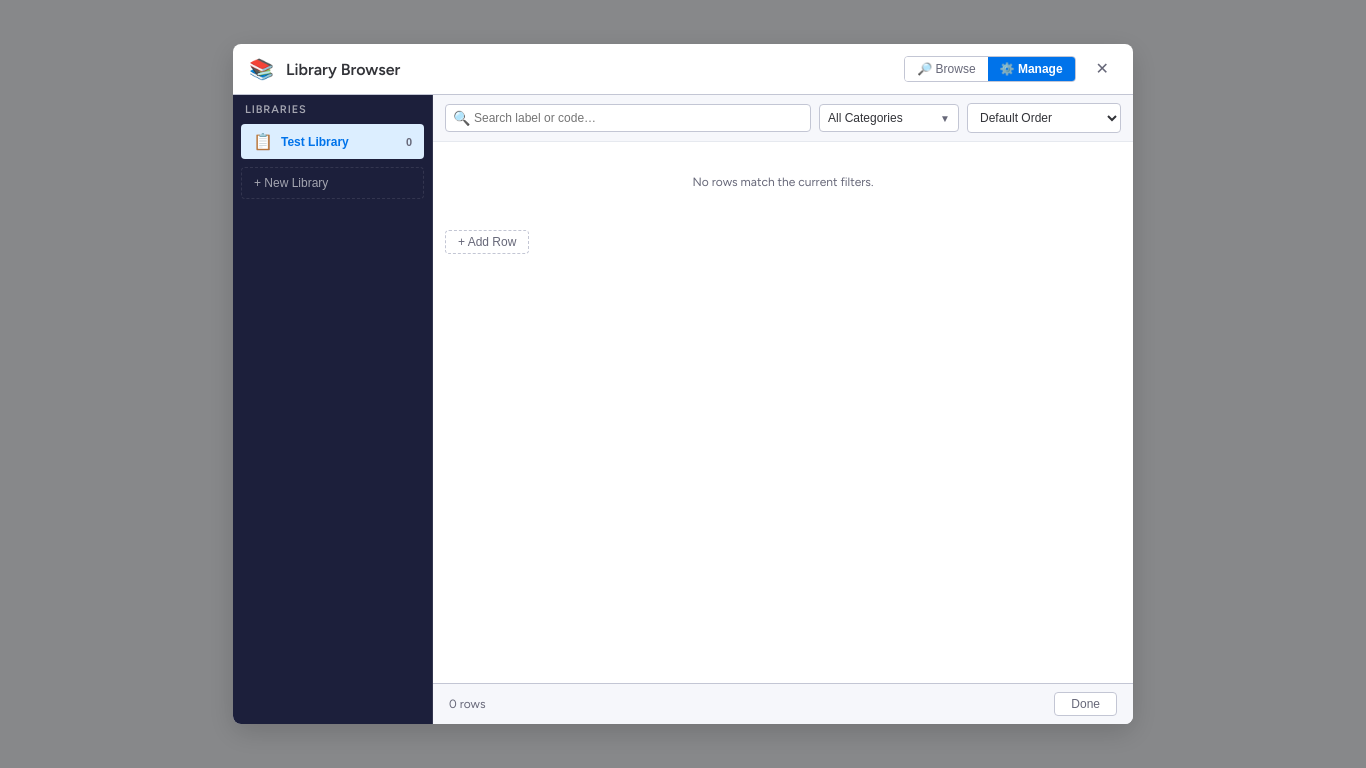
Test: LibraryBrowser — manage mode › should show the new-row form with label and export key inputs when Add Row is clicked
The width and height of the screenshot is (1366, 768).
Click the button "+ Add Row": (487,242) [445,230,529,254]
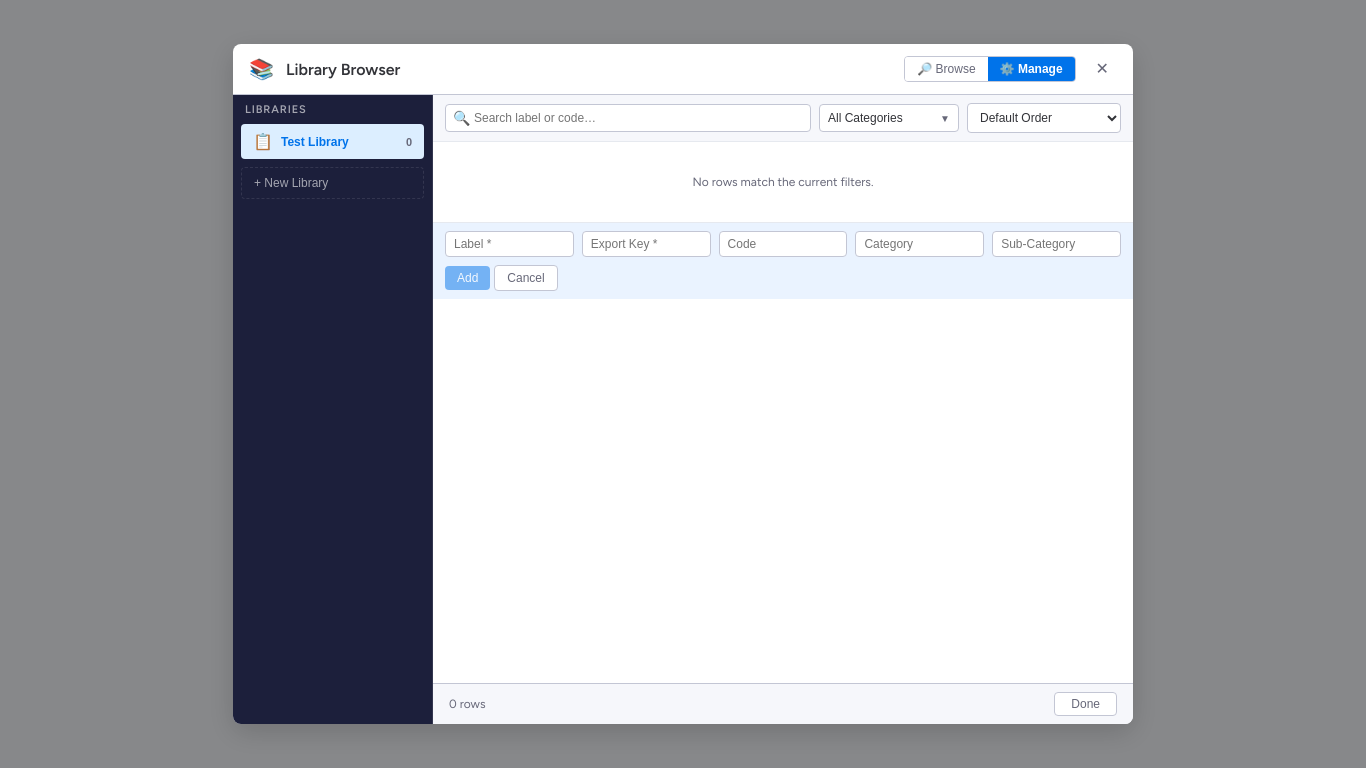
Check: the field with placeholder "Label *" is shown, box [445,231,574,257]
Check: the field with placeholder "Export Key *" is shown, box [582,231,711,257]
